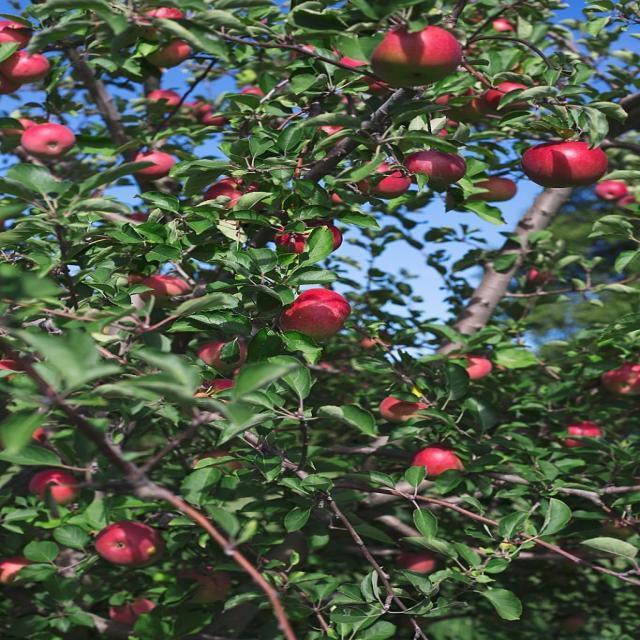Red Apple: (378, 26, 463, 74), (529, 141, 607, 184), (283, 291, 343, 334), (104, 524, 158, 563), (21, 124, 76, 157), (188, 562, 228, 603), (339, 55, 382, 91), (412, 153, 467, 181), (380, 396, 432, 425), (286, 223, 338, 250), (443, 88, 484, 122), (141, 7, 181, 39), (200, 376, 237, 409), (368, 166, 409, 194), (491, 81, 529, 109), (33, 472, 73, 498), (11, 53, 49, 78), (215, 180, 255, 203), (421, 448, 456, 473), (151, 275, 182, 299), (611, 367, 640, 392), (201, 339, 235, 360), (1, 63, 23, 93), (140, 152, 171, 173), (3, 21, 29, 46), (462, 357, 494, 377), (5, 562, 31, 586), (480, 180, 513, 198), (491, 15, 513, 39), (164, 42, 190, 61), (116, 603, 142, 621), (572, 425, 601, 441), (321, 124, 342, 145), (601, 182, 625, 200), (406, 556, 431, 573), (437, 126, 458, 145), (1, 359, 19, 379), (531, 265, 550, 283), (245, 85, 264, 103), (33, 428, 48, 448), (158, 92, 180, 104), (203, 113, 218, 124)
